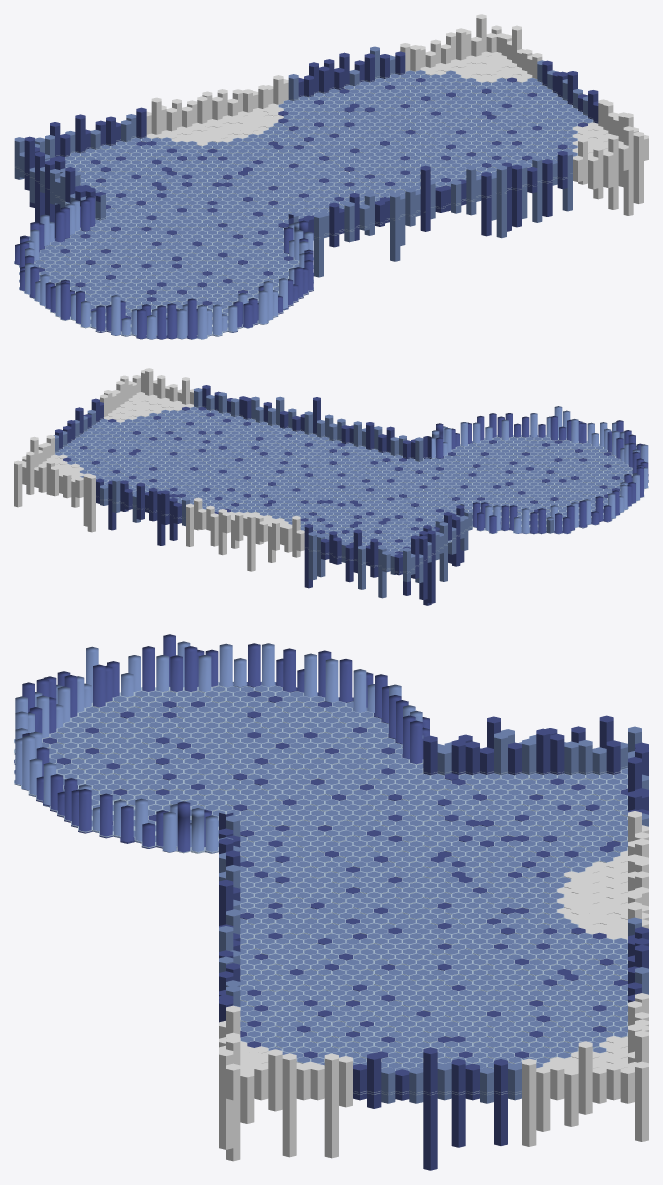
File: Ground-2.fbx
3 views of the same model, one above another, from view 1: azimuth 30°, elevation 25°; view 2: azimuth 150°, elevation 25°; view 3: azimuth 270°, elevation 25° (orthographic). The views are drawn at different scales.
Parts seen in each view (by area): view 1: ground.002; view 2: ground.002; view 3: ground.002.
Boxes of the visible parts, box(x1,y1,x2,y2) form: ground.002: box(14, 14, 648, 339); ground.002: box(14, 368, 648, 605); ground.002: box(14, 634, 648, 1170).
Bounding box in the file's own units: 101 × 17.27 × 65.55.
